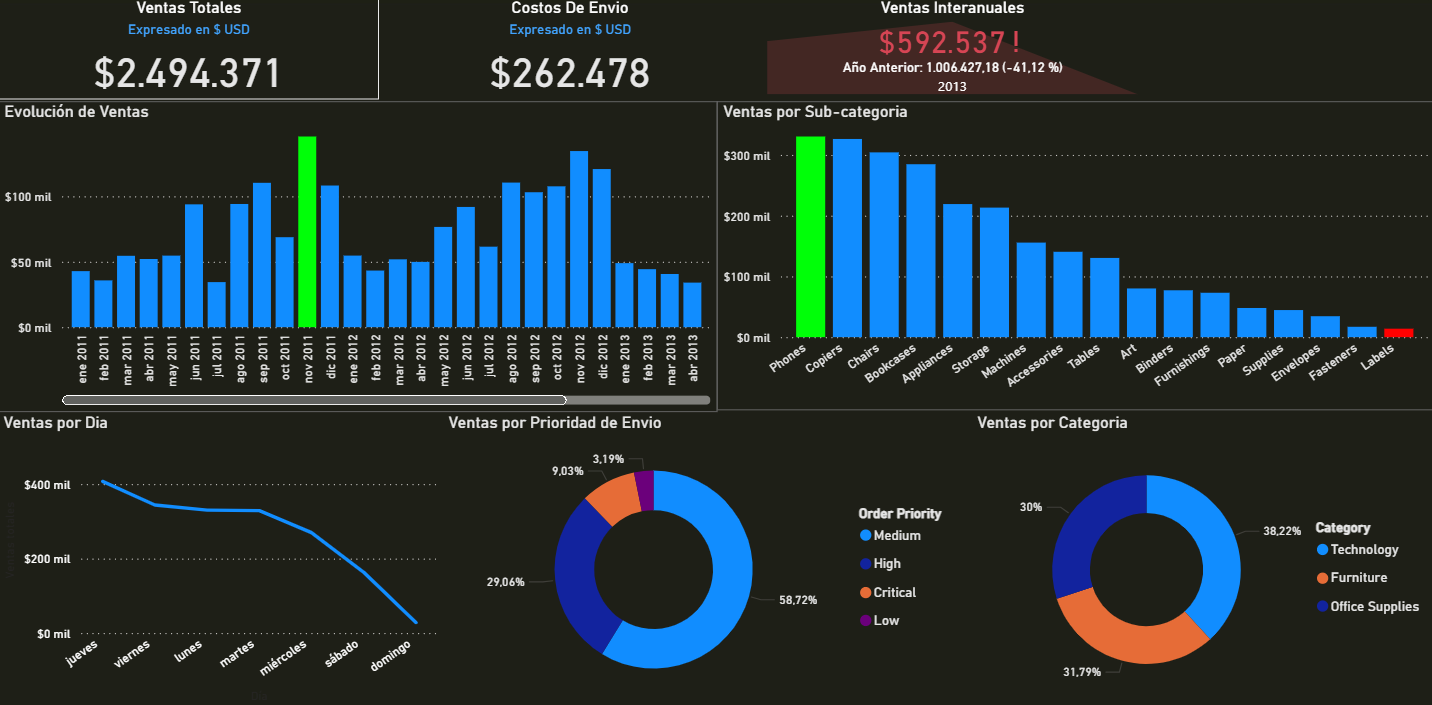

This screenshot's page, from the dashboard's own definition file:
{"tool":"powerbi","page":{"name":"Overview Ventas","canvas":[1280,720],"ordinal":1},"visuals":[{"type":"image","box":[1212.6,0,67.6,67.6],"z":0},{"type":"textbox","box":[78.1,0,183.5,85.2],"z":1000},{"type":"card","title":"Ventas Totales","fields":{"Values":["superstore_dataset.Ventas totales"]},"box":[0,86.9,340,91],"z":2000},{"type":"card","title":"Costos De Envio","fields":{"Values":["superstore_dataset.Costos Envios"]},"box":[339.8,86.9,339.8,91.3],"z":3000},{"type":"slicer","fields":{"Values":["Dim Fechas.Año"]},"box":[261.7,0.9,194,86],"z":4000},{"type":"slicer","fields":{"Values":["Dim Fechas.Mes"]},"box":[649.8,0,194,86],"z":5000},{"type":"slicer","fields":{"Values":["Dim Fechas.Trimestre"]},"box":[455.7,0,194,86],"z":6000},{"type":"kpi","title":"Ventas Interanuales","fields":{"Indicator":["superstore_dataset.Ventas totales"],"TrendLine":["Dim Fechas.Año"],"Goal":["superstore_dataset.Total de Ventas Año Anterior"]},"box":[679.6,86.9,339.8,91.3],"z":7000},{"type":"clusteredColumnChart","title":"Evolución de Ventas","fields":{"Category":["Dim Fechas.MesAño"],"Y":["Medidas.Ventas totales"]},"box":[0,179.1,641,276.6],"z":8000},{"type":"clusteredColumnChart","title":"Ventas por Sub-categoria","fields":{"Category":["Sub-Category (SUBC-ID).Sub-Category"],"Y":["Medidas.Ventas totales"]},"box":[640.2,179.1,640.2,275.5],"z":9000},{"type":"donutChart","title":"Ventas por Prioridad de Envio","fields":{"Y":["superstore_dataset.Ventas totales"],"Category":["Order Priority.Order Priority"]},"box":[396,456.6,471.5,263.4],"z":10000},{"type":"donutChart","title":"Ventas por Categoria","fields":{"Category":["Category (CAT-ID).Category"],"Y":["superstore_dataset.Ventas totales"]},"box":[867.5,456.6,412.7,263.4],"z":11000},{"type":"lineChart","title":"Ventas por Dia","fields":{"Category":["Dim Fechas.Día"],"Y":["Medidas.Ventas totales"]},"box":[0,456.6,396,263.4],"z":12000},{"type":"image","box":[843.8,0.9,57.1,43],"z":13000},{"type":"image","box":[1073.9,0,67.6,67.6],"z":14000},{"type":"image","box":[1145,0,67.6,67.6],"z":15000},{"type":"image","box":[0,0,79,85.2],"z":16000},{"type":"image","box":[1006.2,0,67.6,67.6],"z":17000}]}

Visuals, with their boxes on the page's 1280x720 design canvas (x1, y1, x2, y2). These are canvas units, not pixel positions in the 1432x705 screenshot, which may show the page scaled, cropped or inside an application window:
image: select_region(1213, 0, 1280, 68)
textbox: select_region(78, 0, 262, 85)
"Ventas Totales" card: select_region(0, 87, 340, 178)
"Costos De Envio" card: select_region(340, 87, 680, 178)
slicer - Dim Fechas.Año: select_region(262, 1, 456, 87)
slicer - Dim Fechas.Mes: select_region(650, 0, 844, 86)
slicer - Dim Fechas.Trimestre: select_region(456, 0, 650, 86)
"Ventas Interanuales" kpi: select_region(680, 87, 1019, 178)
"Evolución de Ventas" clusteredColumnChart: select_region(0, 179, 641, 456)
"Ventas por Sub-categoria" clusteredColumnChart: select_region(640, 179, 1280, 455)
"Ventas por Prioridad de Envio" donutChart: select_region(396, 457, 868, 720)
"Ventas por Categoria" donutChart: select_region(868, 457, 1280, 720)
"Ventas por Dia" lineChart: select_region(0, 457, 396, 720)
image: select_region(844, 1, 901, 44)
image: select_region(1074, 0, 1142, 68)
image: select_region(1145, 0, 1213, 68)
image: select_region(0, 0, 79, 85)
image: select_region(1006, 0, 1074, 68)
